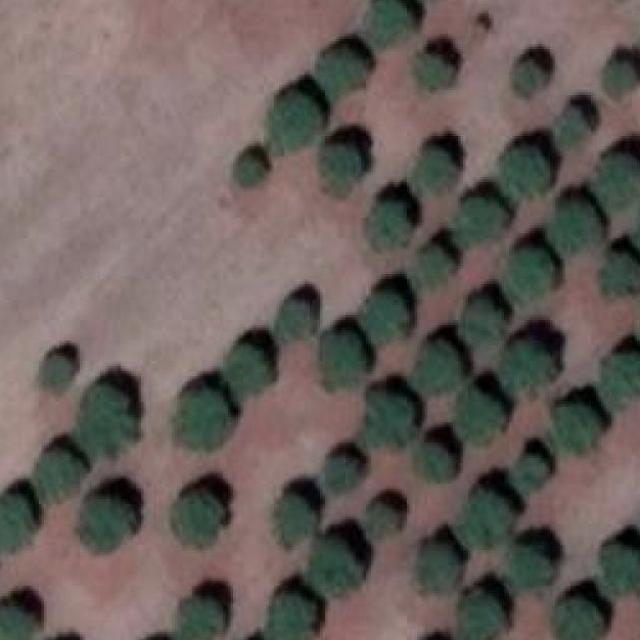Tree: (75, 381, 134, 451), (172, 389, 228, 451), (307, 537, 361, 596), (80, 497, 136, 553), (501, 336, 555, 392), (174, 489, 223, 550), (36, 445, 85, 504), (264, 93, 315, 149), (458, 492, 509, 548), (453, 387, 504, 442), (501, 150, 557, 200), (504, 243, 550, 303), (363, 387, 412, 442), (261, 591, 315, 640), (554, 194, 598, 254), (317, 44, 368, 95), (365, 1, 419, 47), (361, 288, 407, 342), (225, 341, 269, 396), (458, 192, 507, 241), (552, 591, 601, 640), (557, 405, 603, 456), (414, 341, 460, 392), (598, 154, 640, 208), (460, 591, 506, 640), (317, 141, 361, 190), (416, 540, 460, 589), (174, 596, 223, 640), (322, 331, 361, 386), (598, 540, 640, 591), (455, 297, 501, 343), (271, 494, 312, 545), (0, 489, 34, 550), (598, 248, 639, 294), (366, 198, 407, 244), (606, 343, 640, 398), (417, 144, 456, 190), (509, 543, 548, 589), (414, 442, 458, 482), (417, 238, 456, 282), (274, 300, 315, 340), (603, 54, 640, 95), (414, 54, 453, 90), (514, 450, 550, 489), (325, 456, 361, 492), (560, 109, 591, 150), (511, 57, 542, 98), (38, 356, 71, 392), (368, 502, 399, 536), (233, 149, 262, 183), (0, 606, 29, 640)
